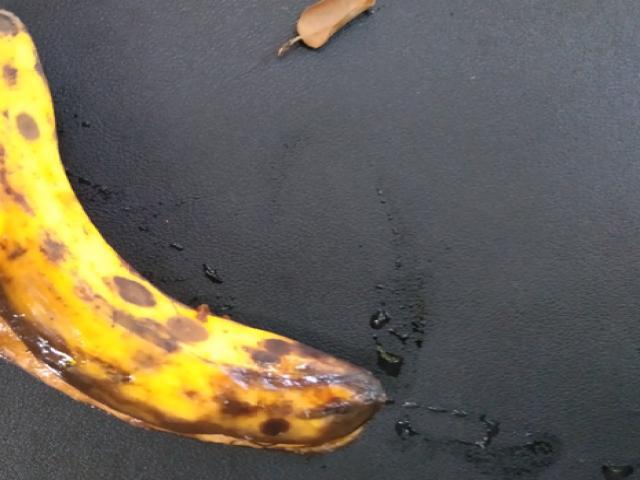rotten: (0, 16, 392, 454)
